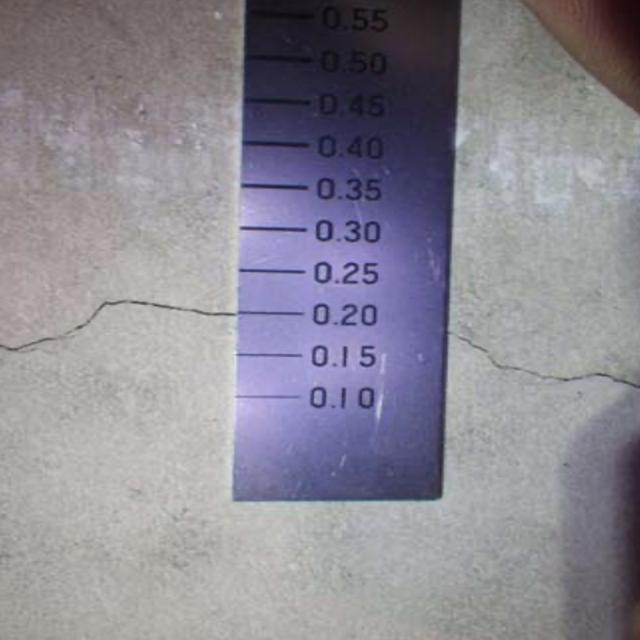crack: (1, 276, 240, 367), (447, 314, 640, 417)
